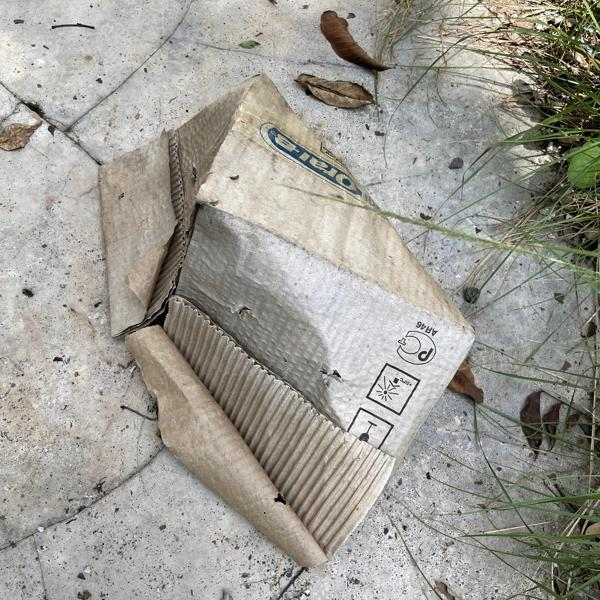Organik: (88, 73, 473, 577)
